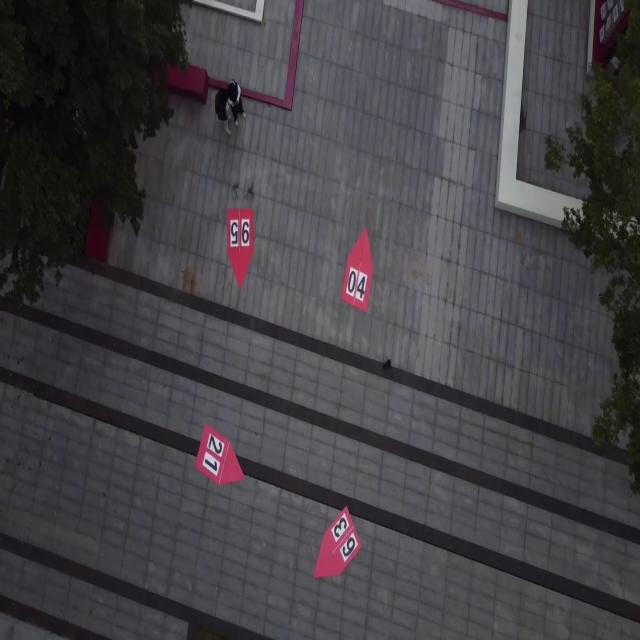-sign-: (313, 506, 363, 580), (195, 423, 244, 487), (342, 226, 374, 314), (226, 206, 254, 290)
